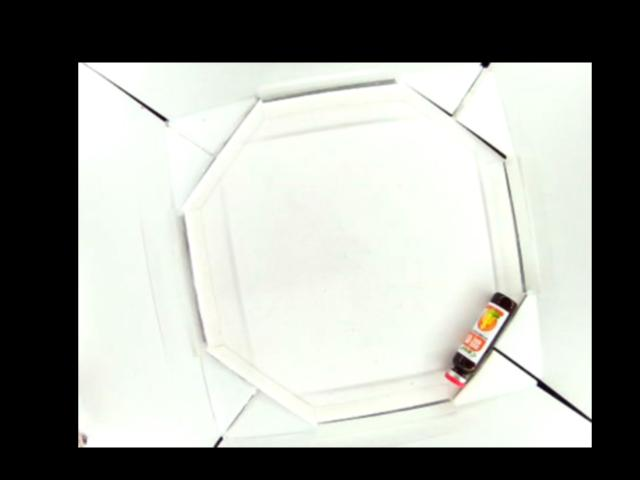Medicine: (444, 292, 519, 385)
